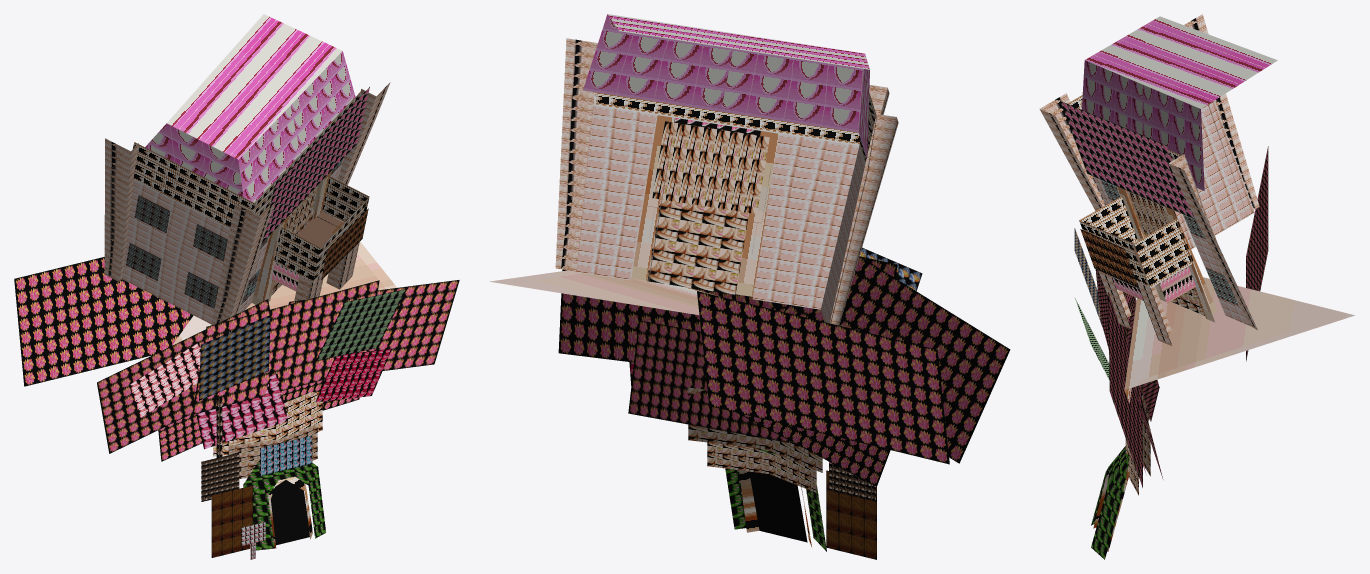
The model's file is tp_princess00.gltf.
The picture shows the model from 3 angles, left to right: view 1: azimuth 30°, elevation 25°; view 2: azimuth 150°, elevation 25°; view 3: azimuth 270°, elevation 25°; orthographic projection. The views are drawn at different scales.
Parts seen in each view (by area): view 1: tp_princess00; view 2: tp_princess00; view 3: tp_princess00.
Boxes of the visible parts, bbox=[...] form: tp_princess00: bbox=[14, 14, 459, 559]; tp_princess00: bbox=[489, 14, 1010, 559]; tp_princess00: bbox=[1039, 14, 1354, 559].
Bounding box in the file's own units: 3.85 × 4.51 × 2.54.
21 materials, 21 textured.
